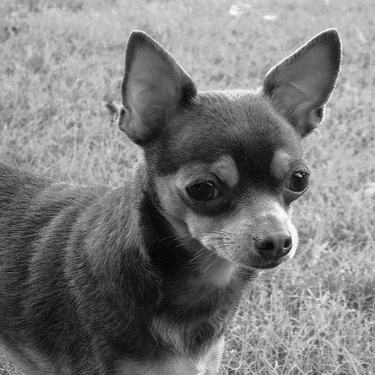dog: (2, 17, 345, 371)
